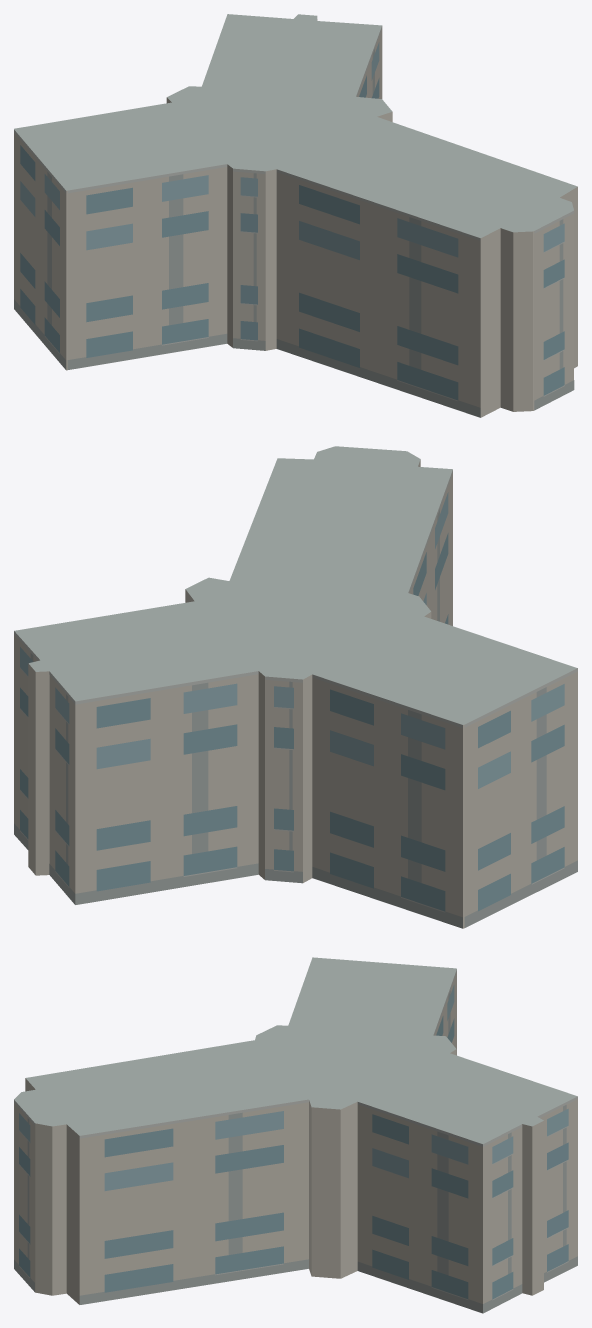
The model's file is survey-upis-32858597.glb.
3 renders of one model, top to bottom at view 1: azimuth 30°, elevation 25°; view 2: azimuth 150°, elevation 25°; view 3: azimuth 270°, elevation 25°, orthographic. The views are drawn at different scales.
Visible parts, largest first — view 1: survey-upis-32858597.tmp; view 2: survey-upis-32858597.tmp; view 3: survey-upis-32858597.tmp.
Part boxes in pixels (x1,y1,x2,y2): survey-upis-32858597.tmp: [14, 14, 577, 417]; survey-upis-32858597.tmp: [14, 446, 577, 928]; survey-upis-32858597.tmp: [14, 957, 577, 1313].
Bounding box in the file's own units: 36.13 × 15.25 × 46.05.
